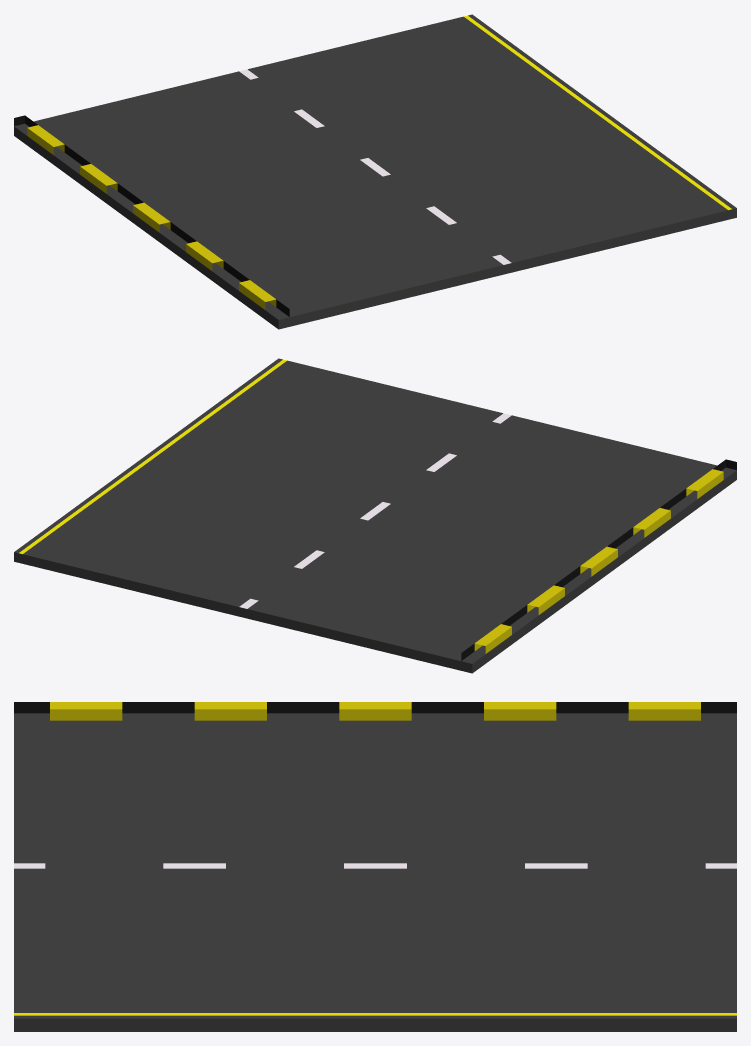
File: major_road_straight_2_width.glb
3 views of the same model, one above another, from view 1: azimuth 30°, elevation 25°; view 2: azimuth 150°, elevation 25°; view 3: azimuth 270°, elevation 25° (orthographic). The views are drawn at different scales.
Visible parts, largest first — view 1: MajorStraight2Width; view 2: MajorStraight2Width; view 3: MajorStraight2Width.
Part boxes in pixels (<box>): MajorStraight2Width: <box>14,14,736,329</box>; MajorStraight2Width: <box>14,358,736,673</box>; MajorStraight2Width: <box>14,702,736,1031</box>.
Size of the model in its own units: 2 by 0.0741 by 2.
